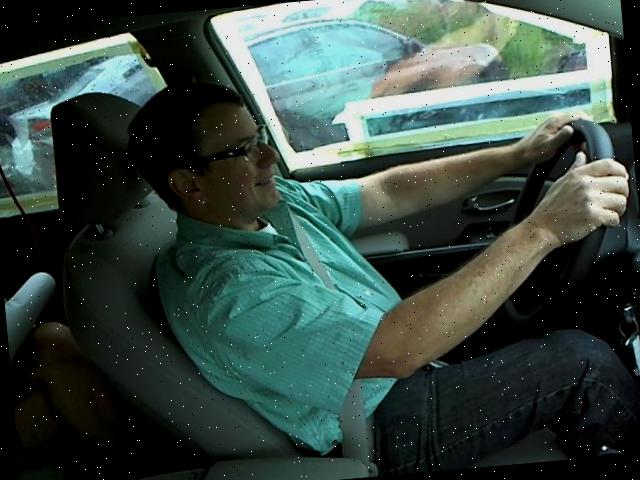c0 - Safe Driving: (109, 47, 639, 399)
